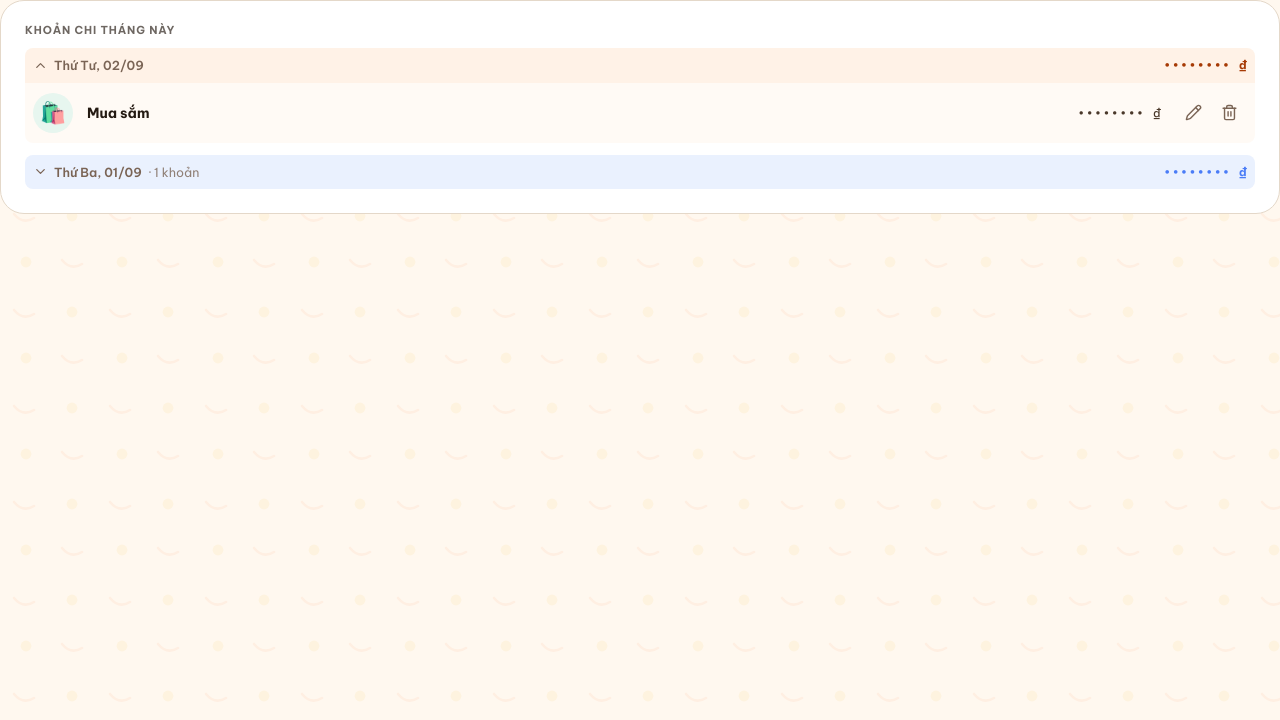
Test: ExpenseListCard › hides the amount in the delete confirmation while money is hidden
Click the button named "Xoá khoản chi Mua sắm".
click(1229, 113)  # box [1211, 95, 1247, 131]
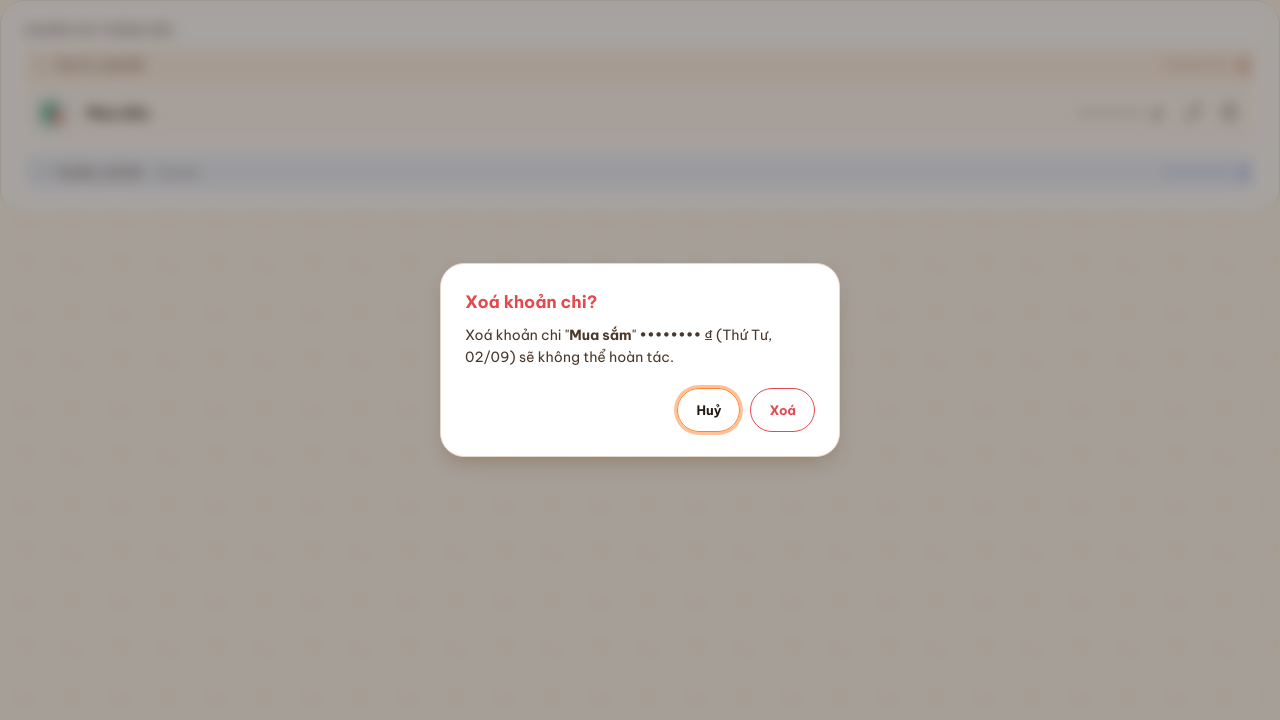
Expected: the dialog does not show "50.000", [440, 263, 840, 457]
Result: the dialog shows "•••••••• ₫" at [639, 326, 713, 344]
